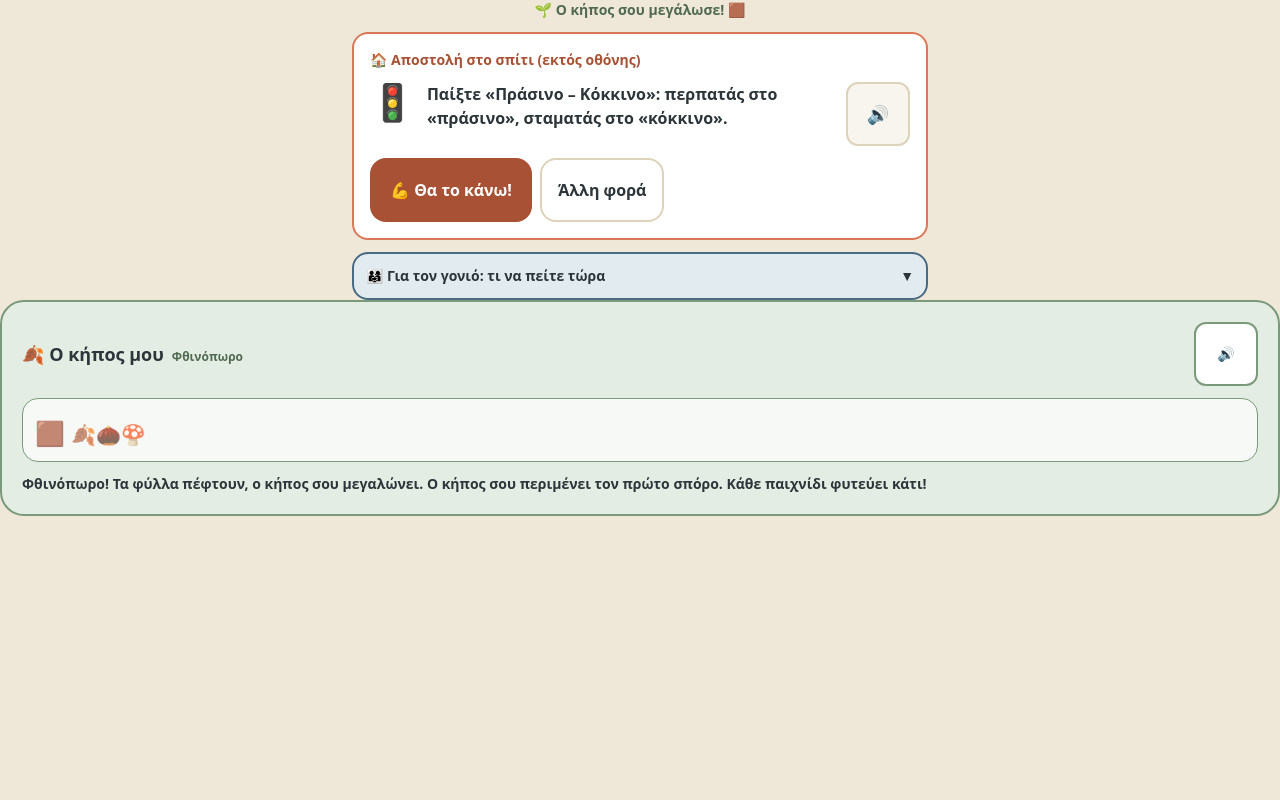
Αποστολή στο σπίτι, επιβεβαίωση γονιού και κήπος › το παιδί δέχεται την αποστολή, ο γονιός επιβεβαιώνει, ο κήπος παίρνει επισκέπτη
The width and height of the screenshot is (1280, 800).
Expected: the element with test id "home-mission-offer" is shown, [352,32,928,240]
Click the button with test id "after-talk-toggle-btn".
click(486, 276)  # box [366,266,914,286]
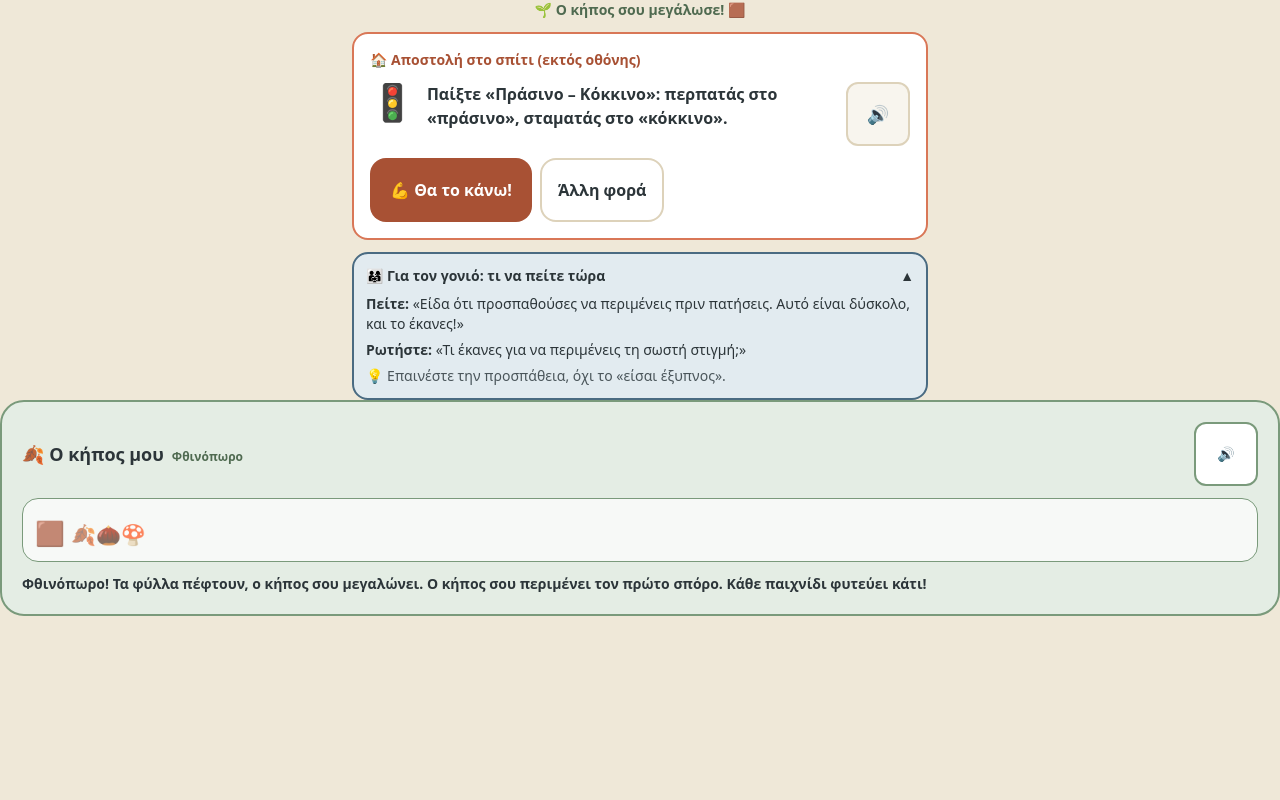
Expected: the element with test id "after-talk-box" shows "περιμένεις", [366,294,910,333]
Click the button with test id "home-mission-accept-btn".
click(451, 190)  # box [370,158,532,222]
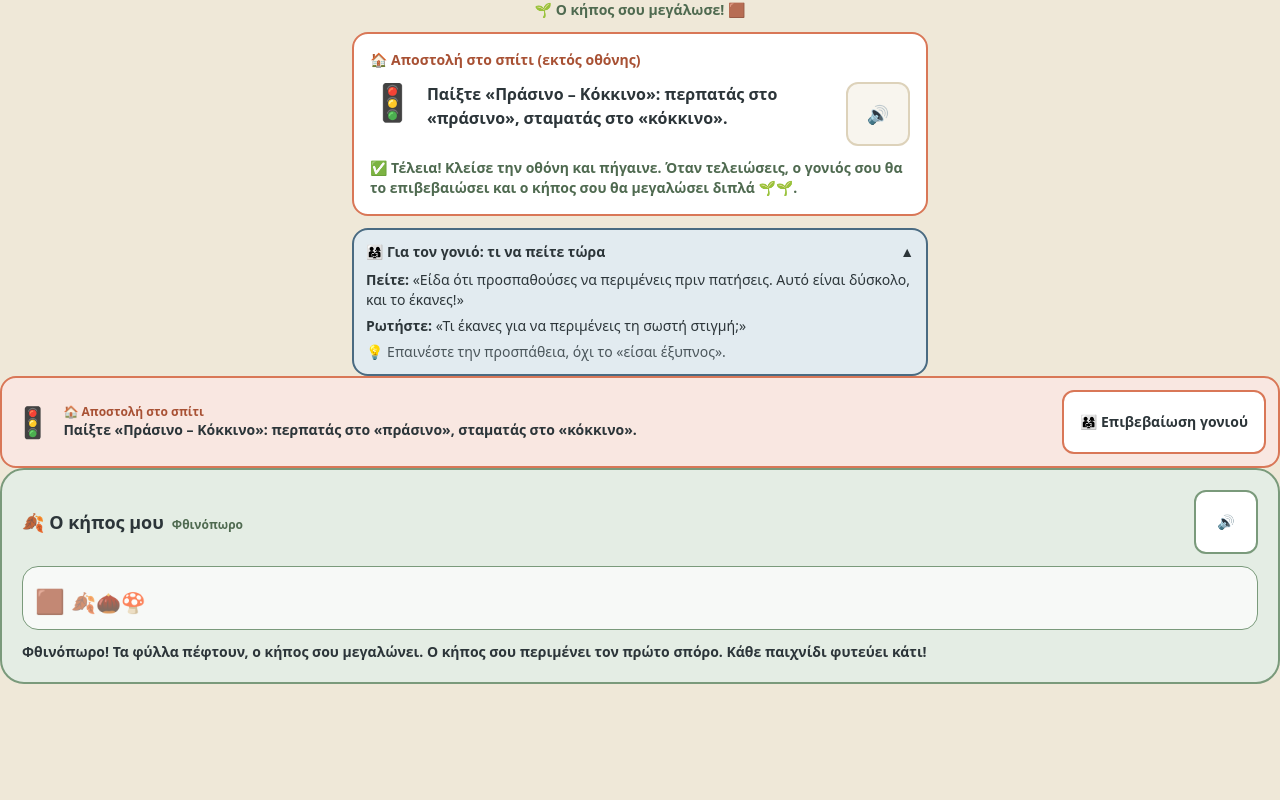
Expected: the message with test id "home-mission-accepted" is shown, [370,158,910,198]
Expected: the element with test id "hub-pending-missions" is shown, [0,376,1279,468]
Click the button with test id "^hub-mission-parent-confirm-btn-".
click(1164, 422)  # box [1062,390,1266,454]
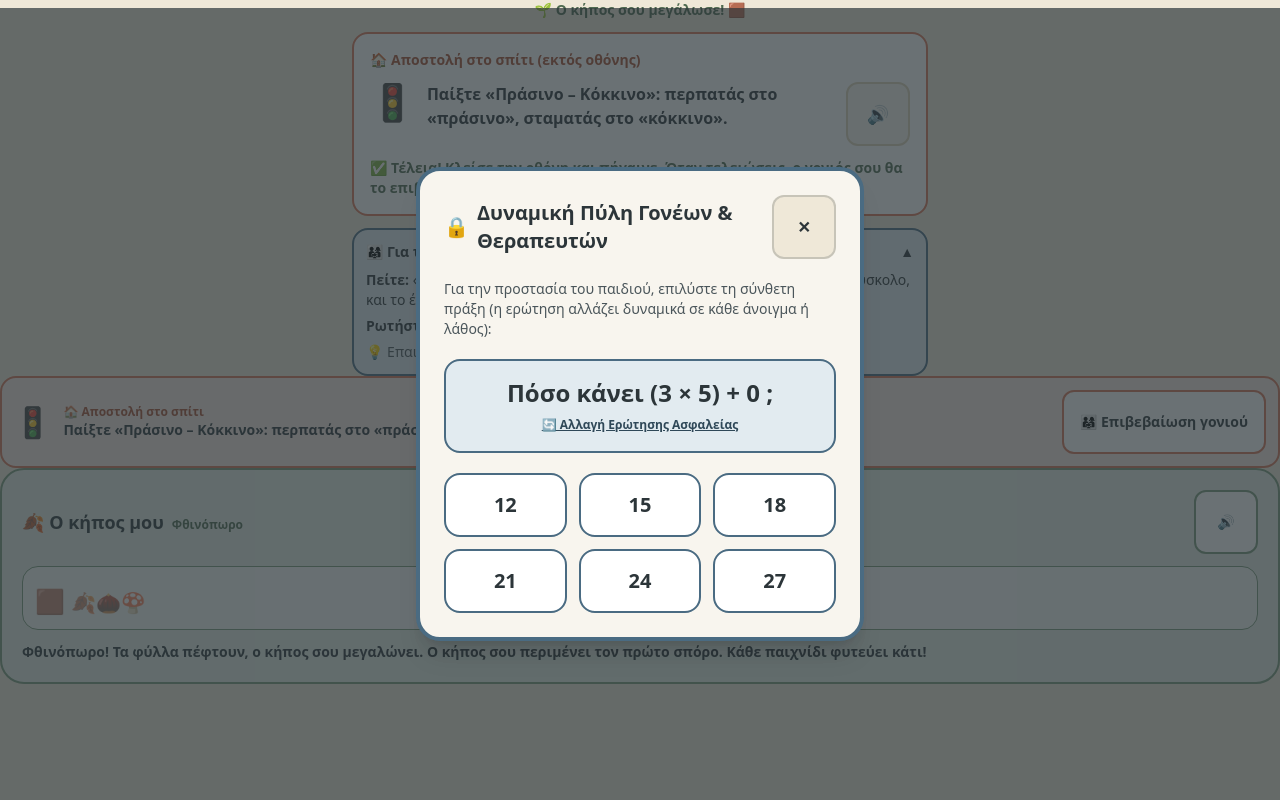
Click the button with test id "parent-gate-option-15".
click(640, 505)  # box [579,473,701,537]
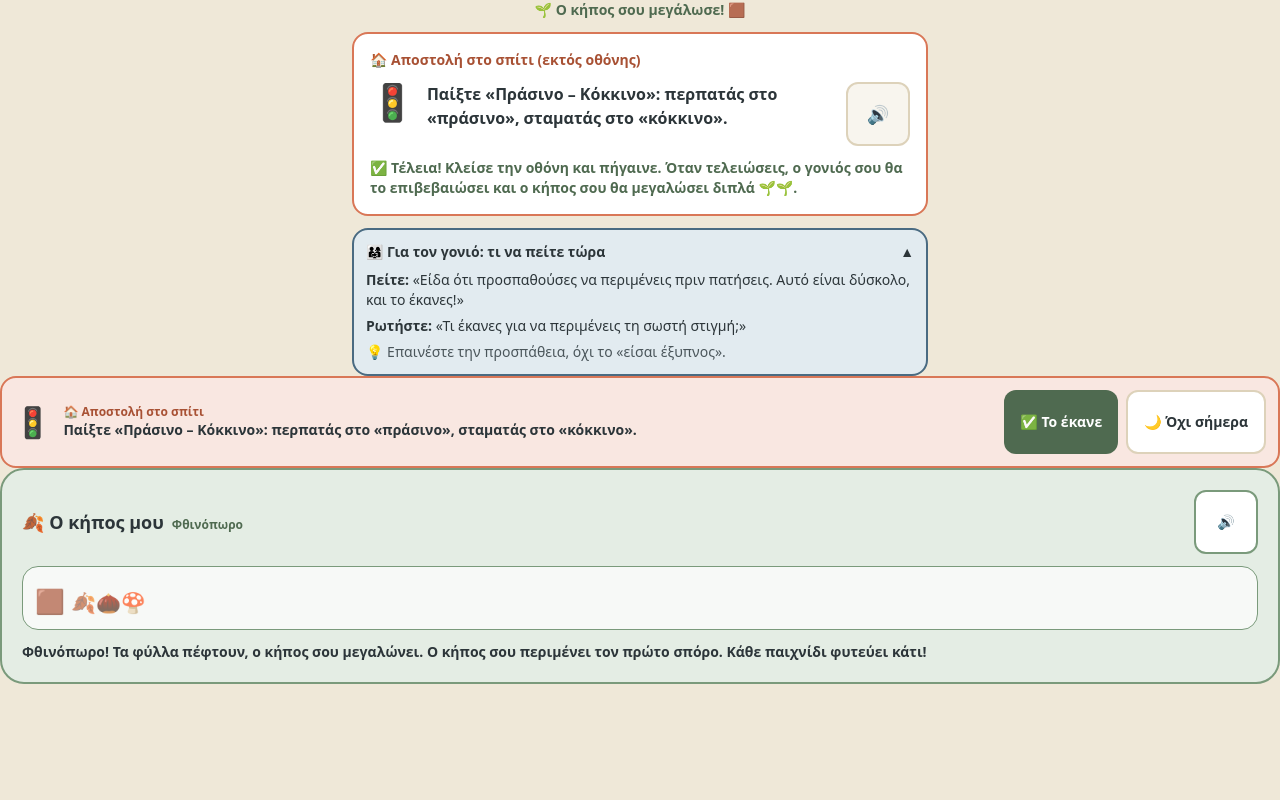
Click the button "✅ Το έκανε".
click(1061, 422)  # box [1004,390,1118,454]
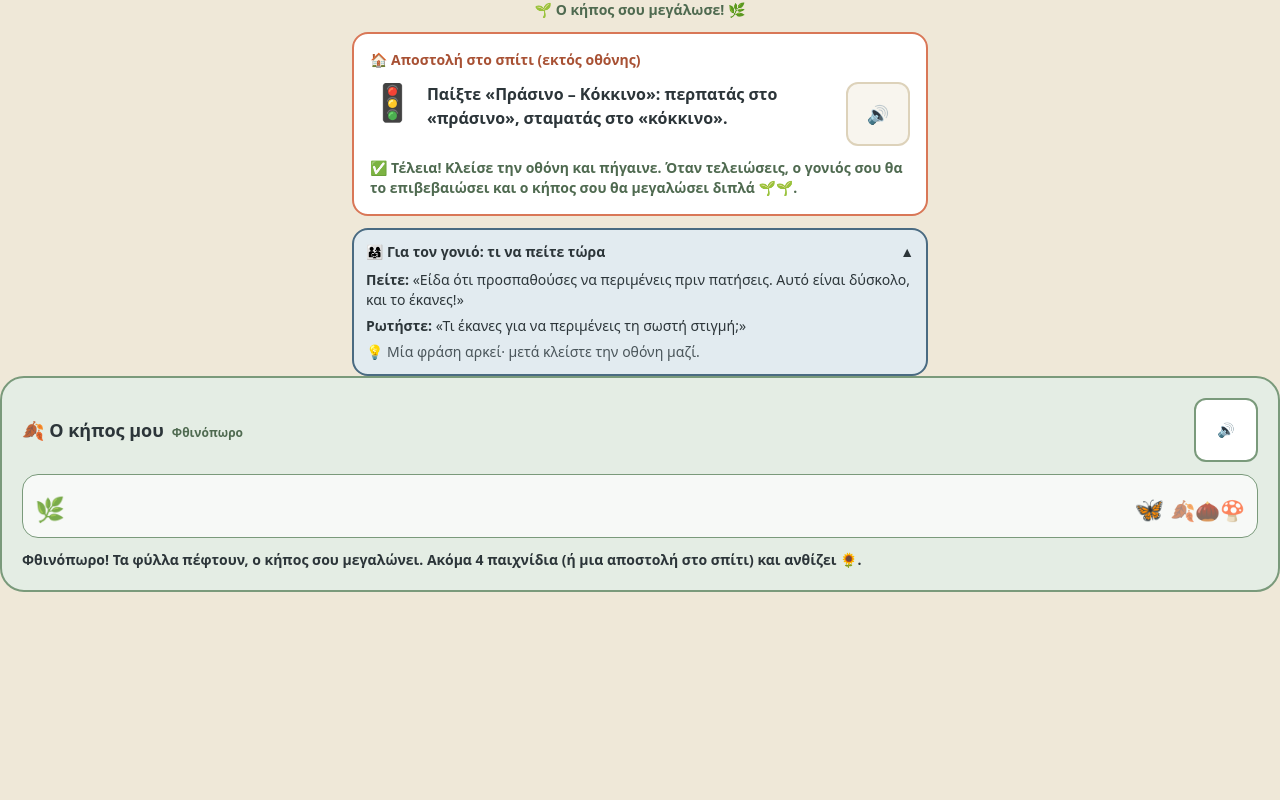
Expected: the element with test id "hub-pending-missions" is gone
Expected: the element with test id "hub-garden-plots" shows "🦋", [1134,492,1164,525]
